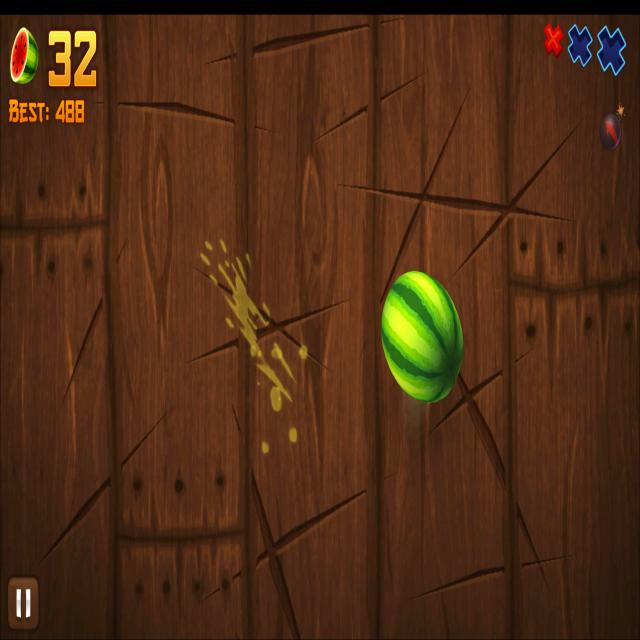fruit: (381, 271, 464, 403)
